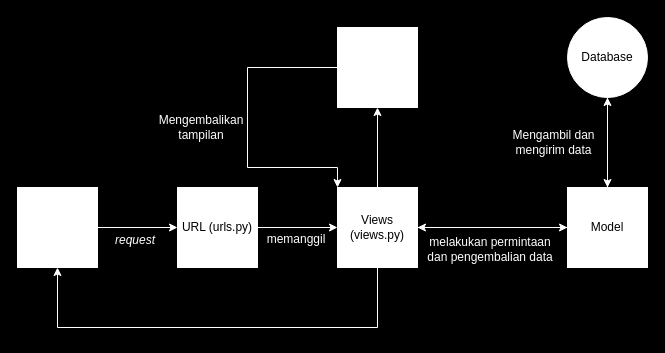
Some shapes in this 665 by 353 pixel diagram are drawn without their labels. The box of each missing label's shape, as (x1, y1, x2, y2) in pixels:
Clinet / User: (16, 186, 98, 268)
Template: (336, 26, 418, 108)
